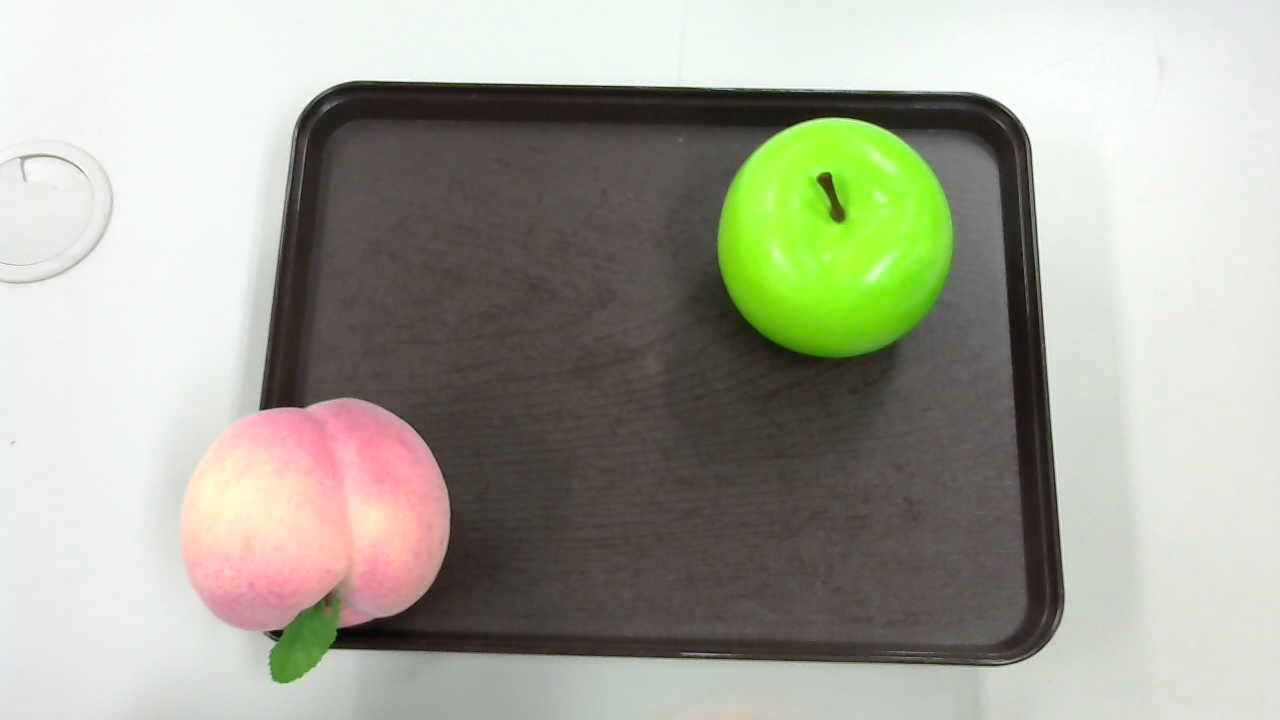green apple: (709, 111, 966, 362)
peach: (179, 393, 449, 683)
